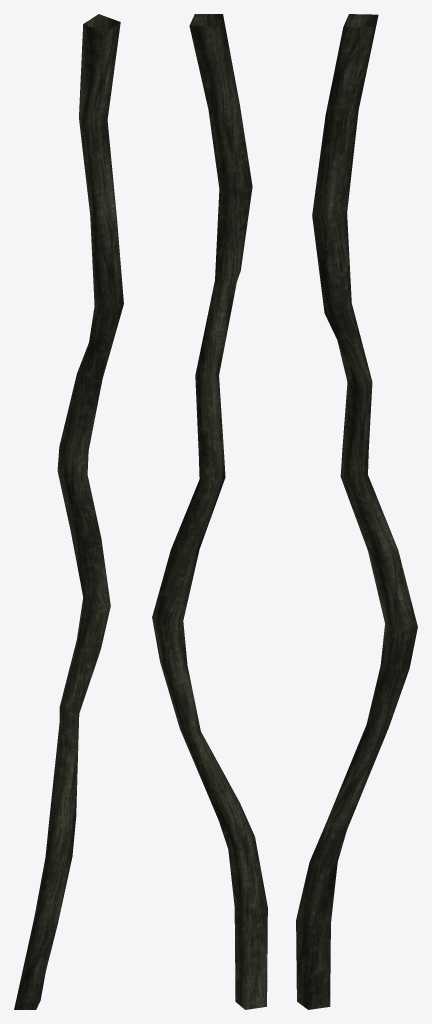
The model's file is Root_large2_LOD1.fbx.
The picture shows the model from 3 angles, left to right: view 1: azimuth 30°, elevation 25°; view 2: azimuth 150°, elevation 25°; view 3: azimuth 330°, elevation 25°; orthographic projection. The views are drawn at different scales.
Parts seen in each view (by area): view 1: pCylinder8; view 2: pCylinder8; view 3: pCylinder8.
Part boxes in pixels (bbox=[...]): pCylinder8: bbox=[14, 14, 123, 1009]; pCylinder8: bbox=[152, 14, 267, 1009]; pCylinder8: bbox=[296, 14, 417, 1009].
Bounding box in the file's own units: 3.32 × 29.43 × 2.99.
